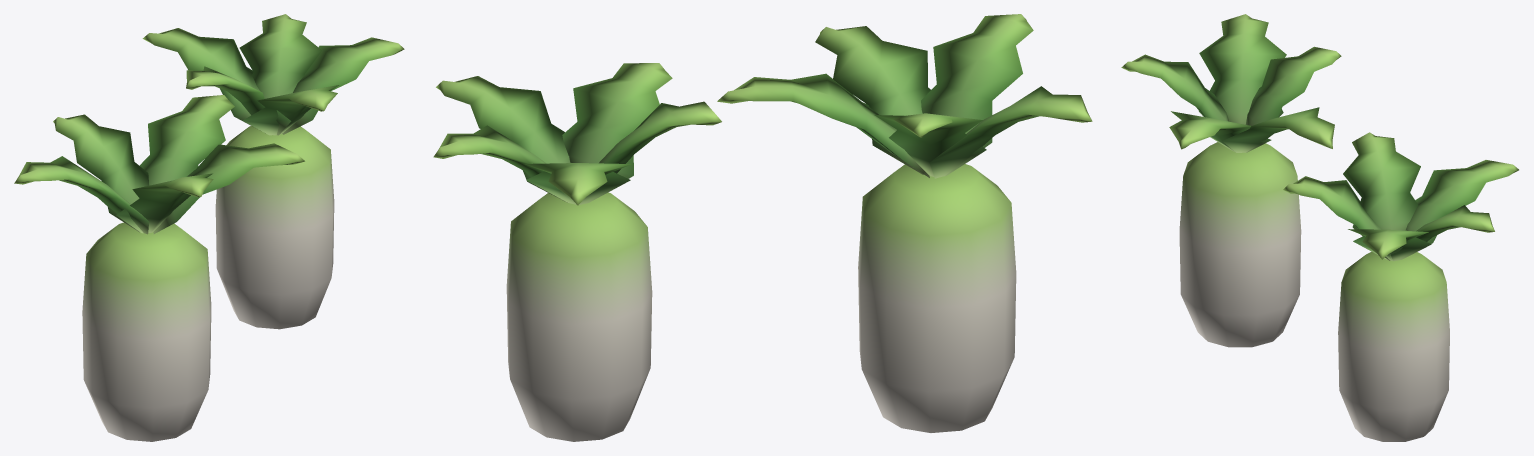
Rendered from prop-crop-daikon-ripe.glb.
The picture shows the model from 3 angles, left to right: view 1: azimuth 30°, elevation 25°; view 2: azimuth 150°, elevation 25°; view 3: azimuth 270°, elevation 25°; orthographic projection. The views are drawn at different scales.
Parts seen in each view (by area): view 1: body, leaf; view 2: body, leaf; view 3: body, leaf.
Boxes of the visible parts, x1,y1,x2,y2 form: body: (82,126,334,441); leaf: (14,14,404,234); body: (506,164,1016,441); leaf: (433,14,1092,205); body: (1179,142,1449,441); leaf: (1121,14,1518,261).
Bounding box in the file's own units: 0.817 × 0.4843 × 0.6479.
